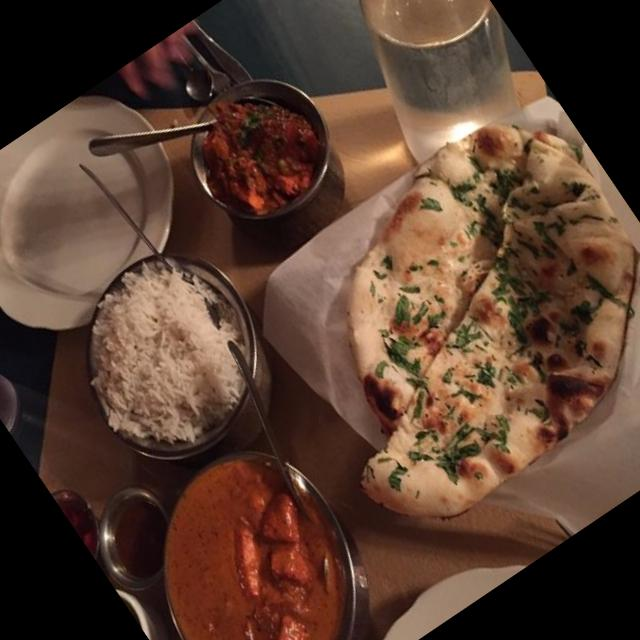rice: (91, 265, 242, 443)
